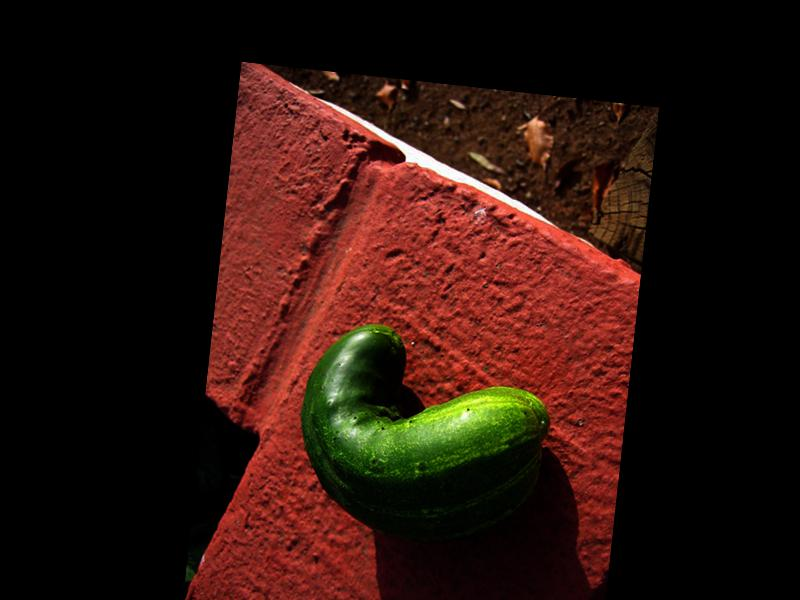Cucumber: (289, 314, 557, 552)
